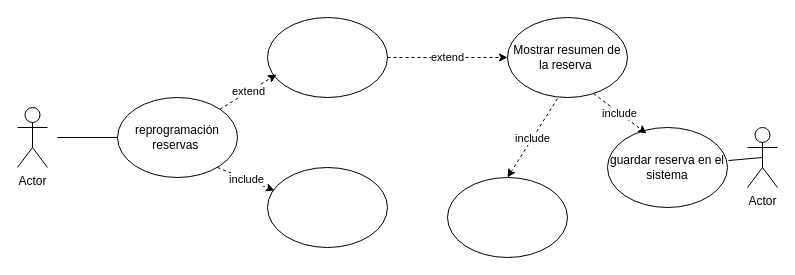
Some shapes in this 795 by 275 pixel diagram are drawn without their labels. The shapes that lost their labels are listed below. From the top down, each one's box as (x1, y1, x2, y2) in pixels, then its label:
(266, 16, 388, 98): ingresar datos de reprogramación de reserva
(266, 166, 388, 248): validar disponibilidad
(446, 176, 568, 258): enviar notificación al email
